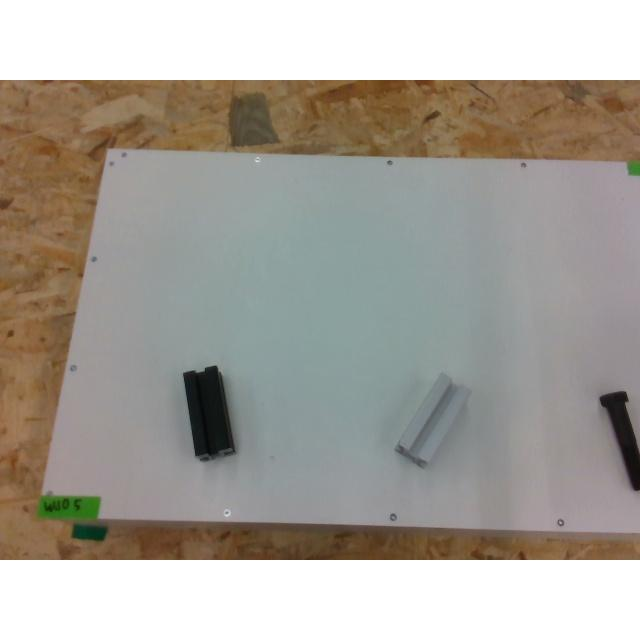M20_100: (599, 390, 639, 490)
S40_40_B: (182, 366, 234, 460)
S40_40_G: (394, 372, 470, 468)
